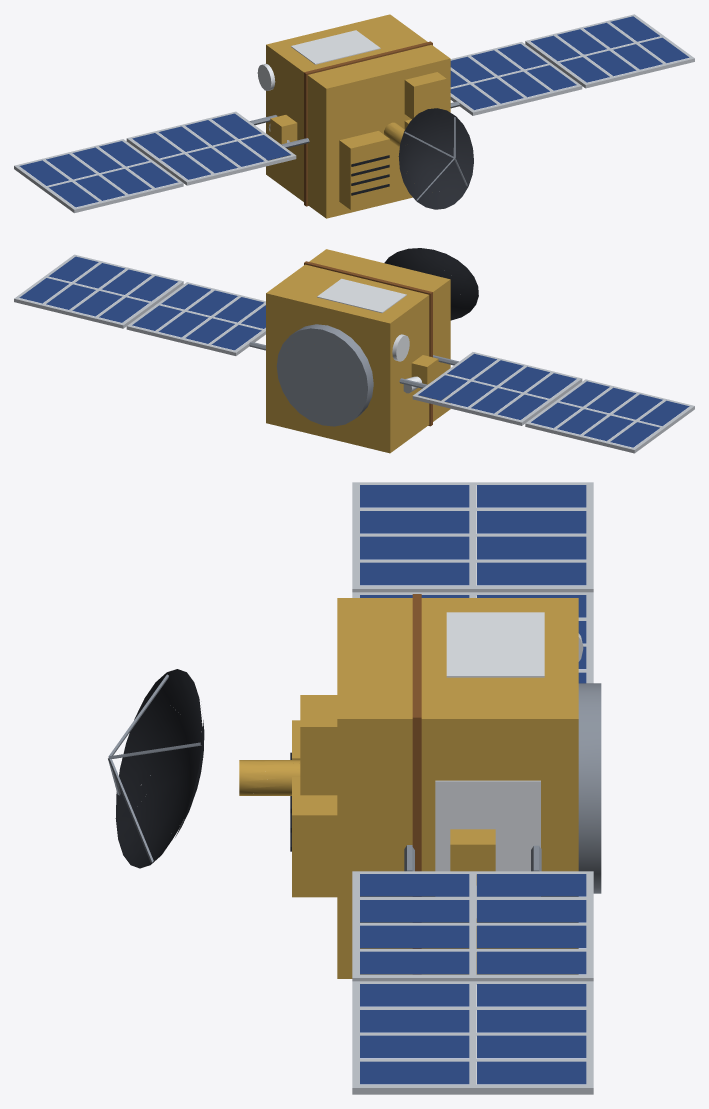
File: eos-06.glb
The picture shows the model from 3 angles, top to bottom: view 1: azimuth 30°, elevation 25°; view 2: azimuth 150°, elevation 25°; view 3: azimuth 270°, elevation 25°; orthographic projection. The views are drawn at different scales.
Visible parts, largest first — view 1: foil, solar-panel, body; view 2: body, foil, solar-panel; view 3: foil, solar-panel, body.
Boxes of the visible parts, x1,y1,x2,y2 form: foil: (266, 14, 450, 218); solar-panel: (19, 16, 689, 207); body: (14, 14, 694, 213); body: (14, 248, 694, 453); foil: (266, 249, 450, 453); solar-panel: (19, 256, 689, 447); foil: (239, 594, 578, 978); solar-panel: (360, 485, 586, 1084); body: (108, 482, 601, 1094).
Size of the model in its own units: 9.5 by 1.94 by 3.27.
